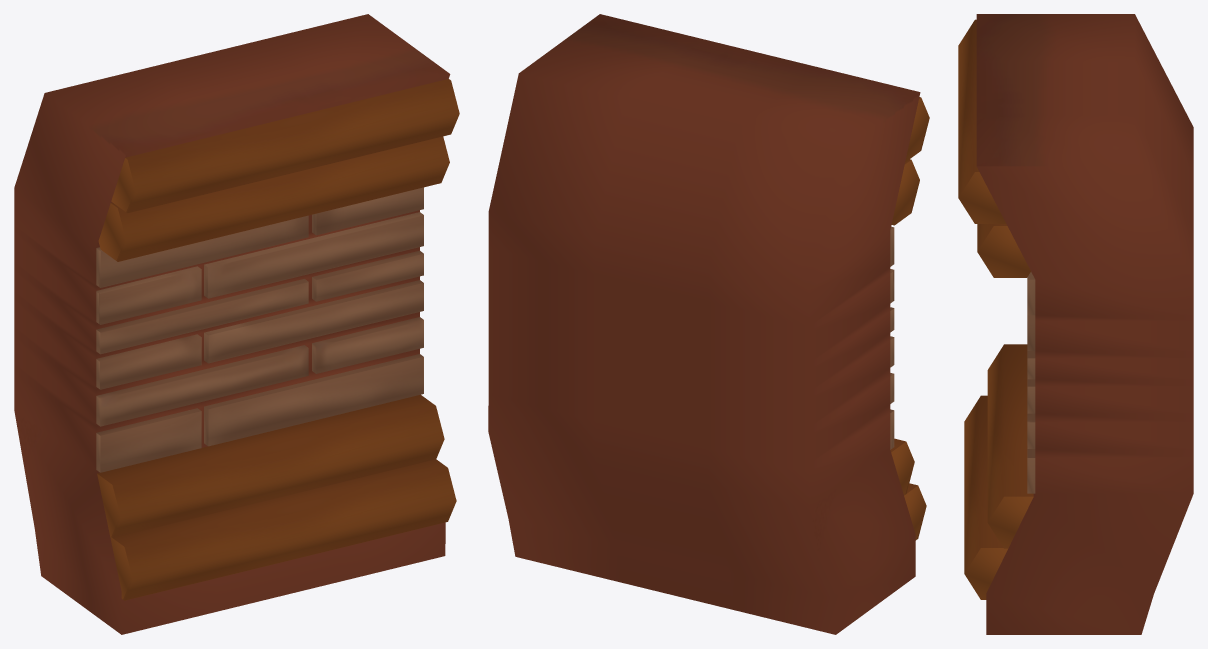
File: test_wall.glb
3 renders of one model, left to right at view 1: azimuth 30°, elevation 25°; view 2: azimuth 150°, elevation 25°; view 3: azimuth 270°, elevation 25°, orthographic. The views are drawn at different scales.
Visible parts, largest first — view 1: Cylinder.011; view 2: Cylinder.011; view 3: Cylinder.011.
Part boxes in pixels (left/top/right/bottom): Cylinder.011: left=14, top=14, right=459, bottom=634; Cylinder.011: left=488, top=14, right=929, bottom=634; Cylinder.011: left=958, top=14, right=1193, bottom=634.
Size of the model in its own units: 4.01 by 5.73 by 2.61.
1 material, 1 textured.
